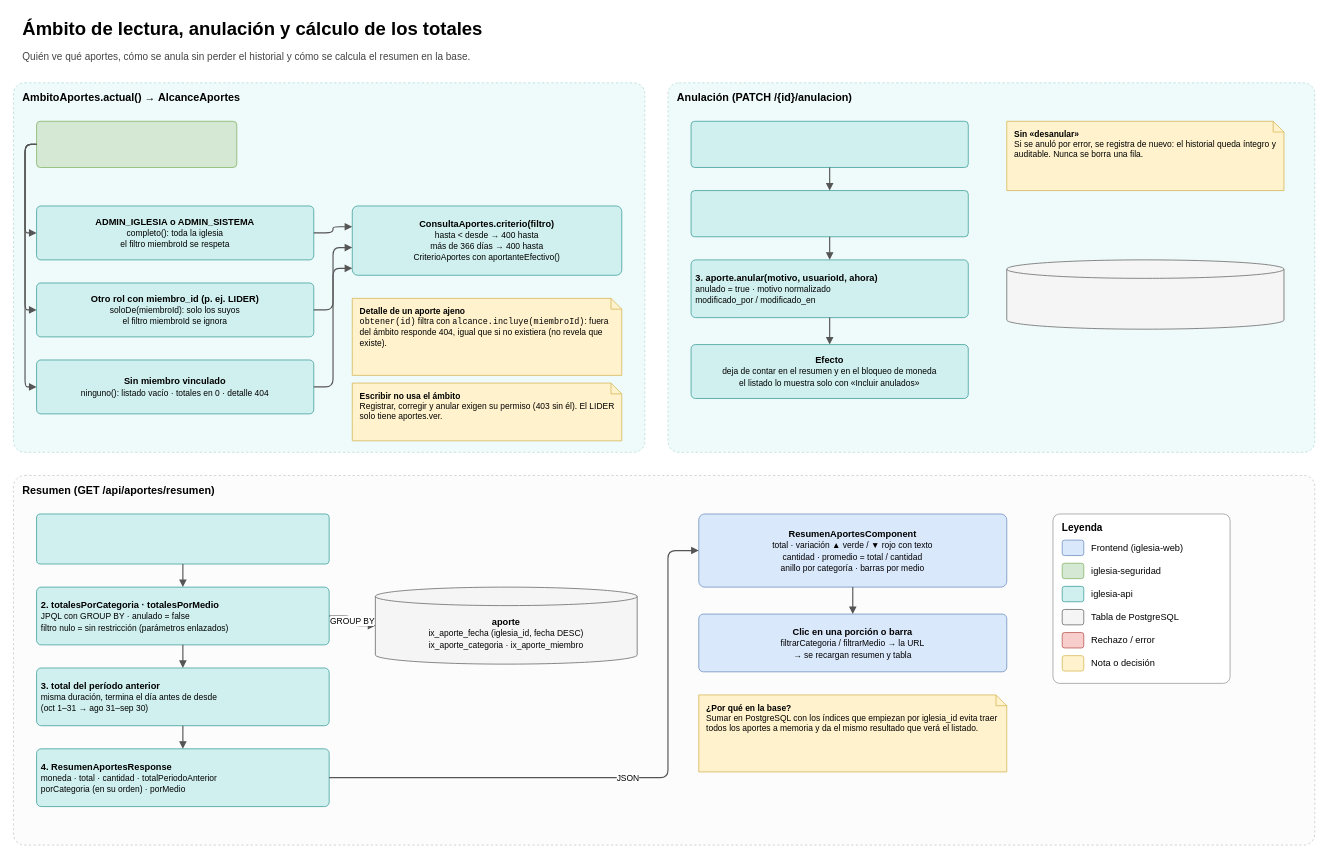
Image size: 1328x859. Some labels were removed from this diagram. Each missing label, with the centre of its shape:
"1. buscar(id) otra iglesia → 404" belongs at (x=829, y=144).
"1. Mismo criterio que el listado ConsultaAportes: rango + filtros + ámbito" belongs at (x=182, y=538).
"2. ¿Ya está anulado? sí → 409 «El aporte ya está anulado»" belongs at (x=829, y=213).
"aporte CHECK (anulado = (motivo_anulacion IS NOT NULL))" belongs at (x=1145, y=294).
"Token (JWT) roles base · miembro_id · permisos" belongs at (x=136, y=144).
